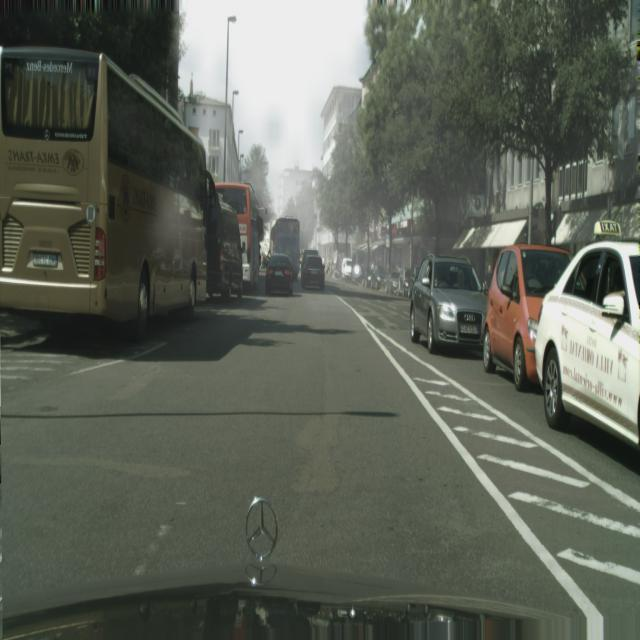bicycle: (0, 45, 209, 341), (215, 181, 261, 294), (269, 218, 301, 280)
person: (533, 236, 640, 454), (482, 242, 572, 394), (409, 253, 488, 356), (265, 252, 294, 296), (301, 250, 325, 291), (385, 267, 415, 296), (367, 262, 389, 291), (341, 258, 352, 281)
